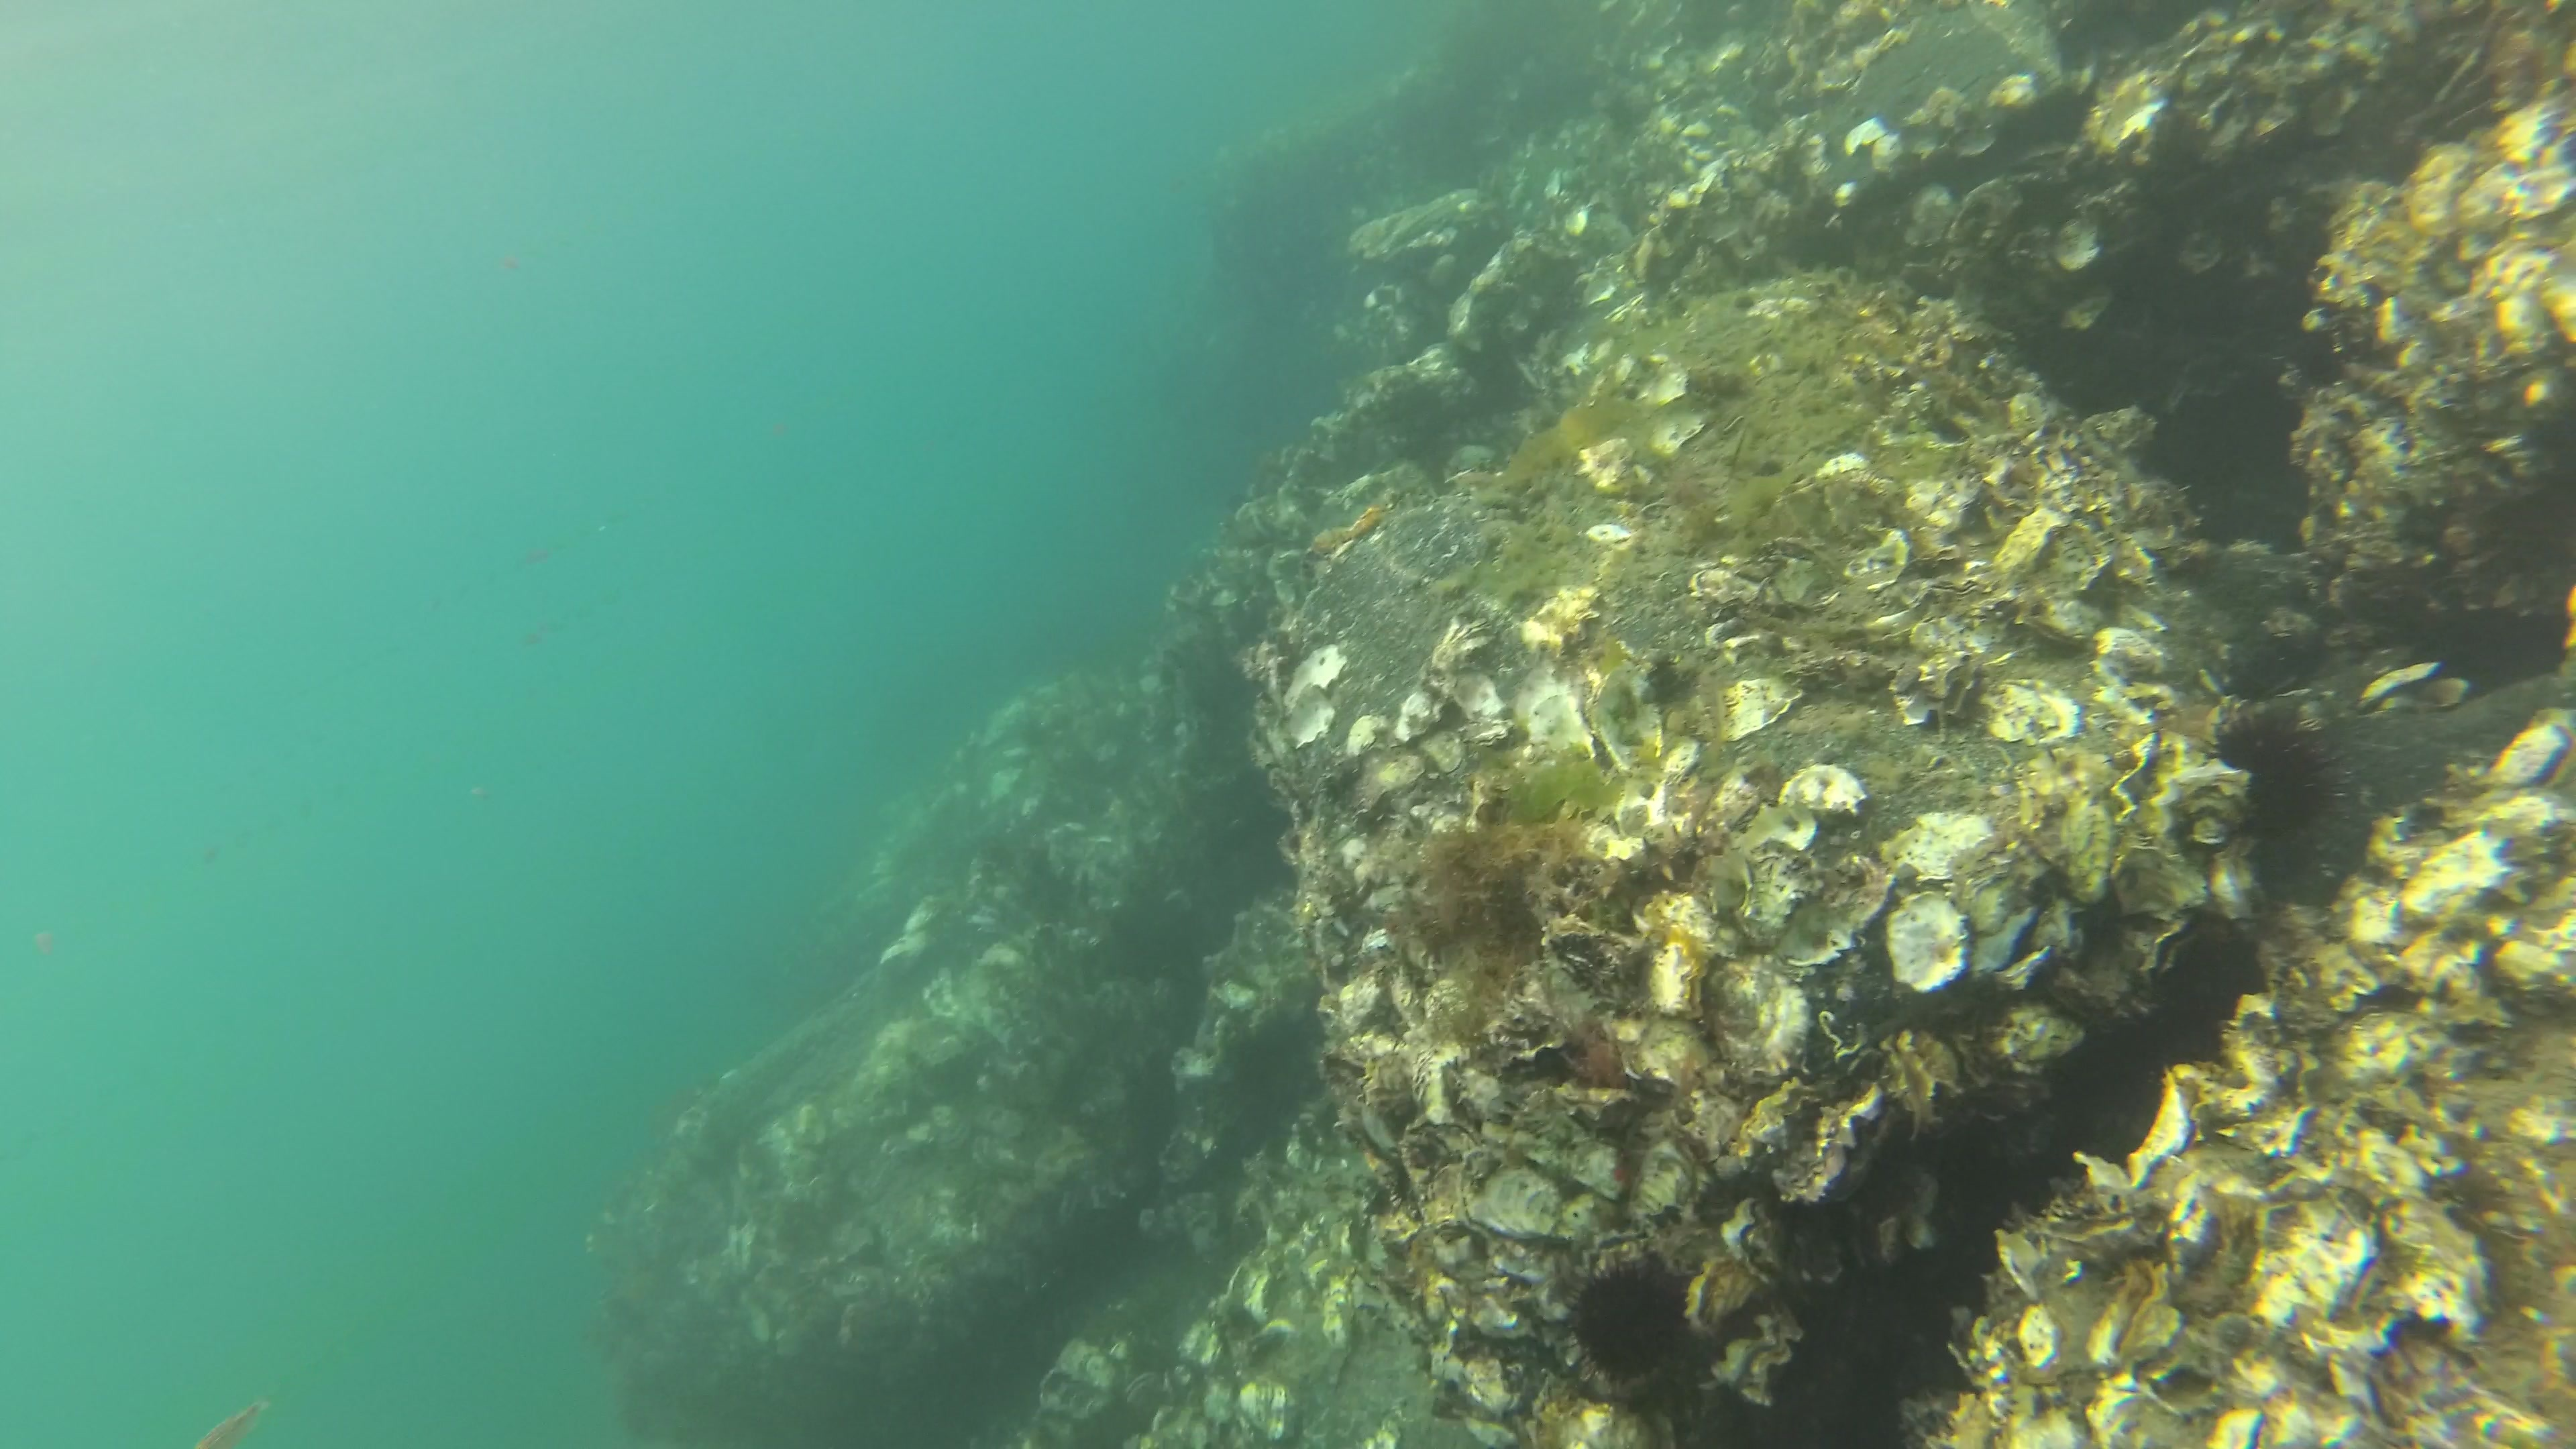echinus: (2217, 709, 2353, 858), (1566, 1253, 1695, 1401)
